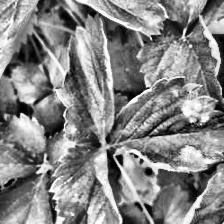Powdery Mildew Leaf: (107, 75, 224, 173), (135, 13, 224, 112), (53, 12, 115, 147), (157, 158, 223, 224)
